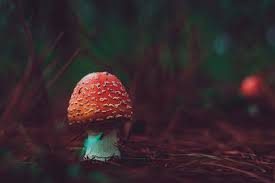Amanita muscaria: (55, 68, 140, 168)
